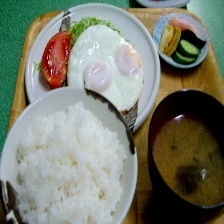rice: (0, 98, 131, 224)
